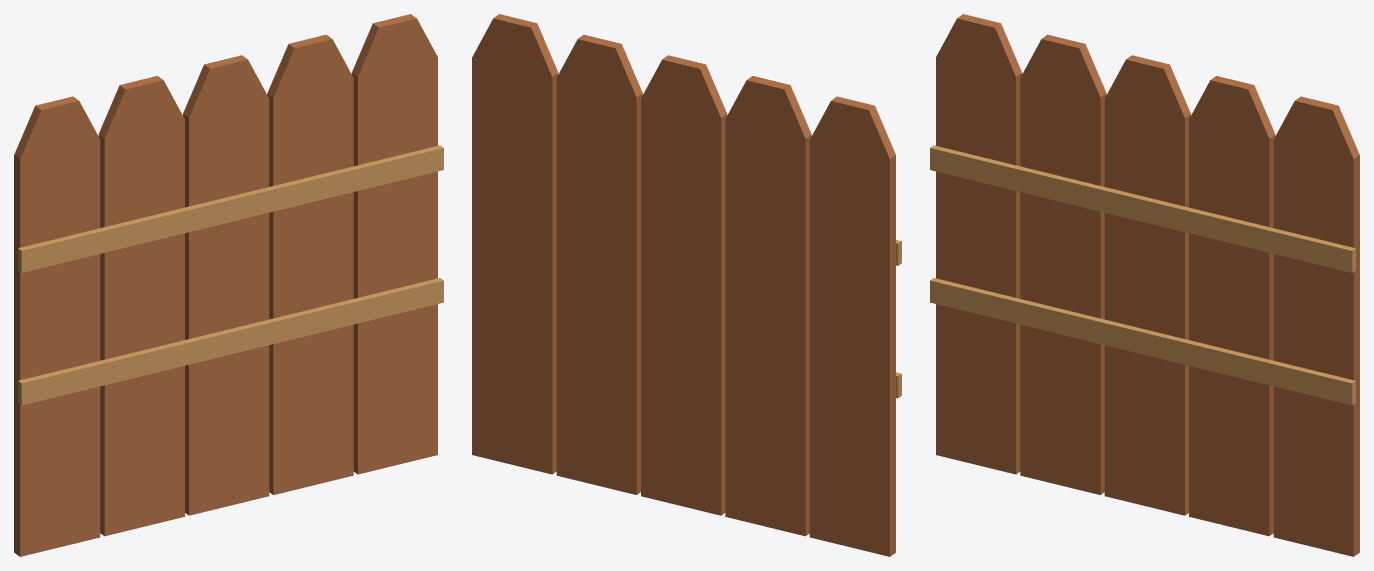
The model's file is fence_2m.glb.
The picture shows the model from 3 angles, left to right: view 1: azimuth 30°, elevation 25°; view 2: azimuth 150°, elevation 25°; view 3: azimuth 330°, elevation 25°; orthographic projection.
Visible parts, largest first — view 1: Cube; view 2: Cube; view 3: Cube.
Part boxes in pixels (bbox=[...]): Cube: bbox=[14, 14, 443, 556]; Cube: bbox=[472, 14, 901, 556]; Cube: bbox=[930, 14, 1359, 556].
Size of the model in its own units: 2 by 2 by 0.08.
Materials: 1 (1 with a texture image).
